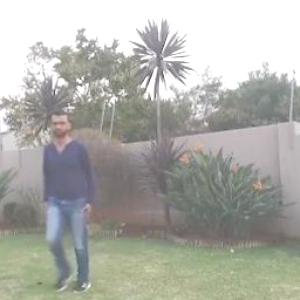follow: (42, 110, 90, 278)
